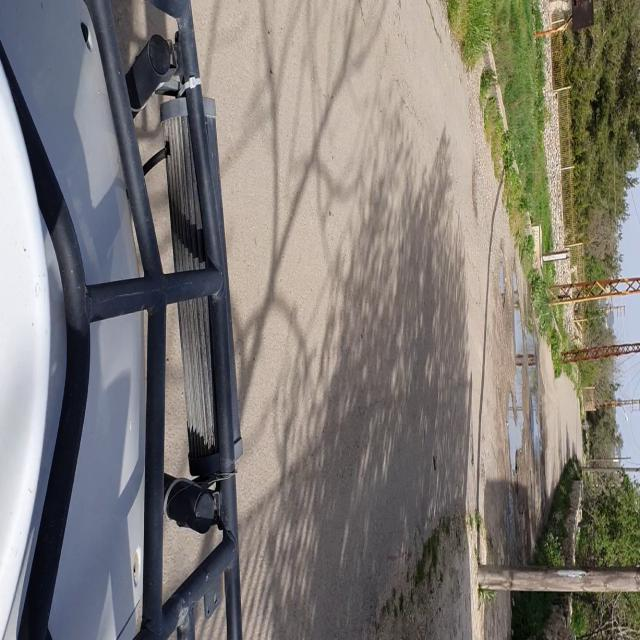pothole: (512, 269, 523, 378), (506, 391, 518, 477), (532, 408, 546, 460), (499, 241, 506, 311)
